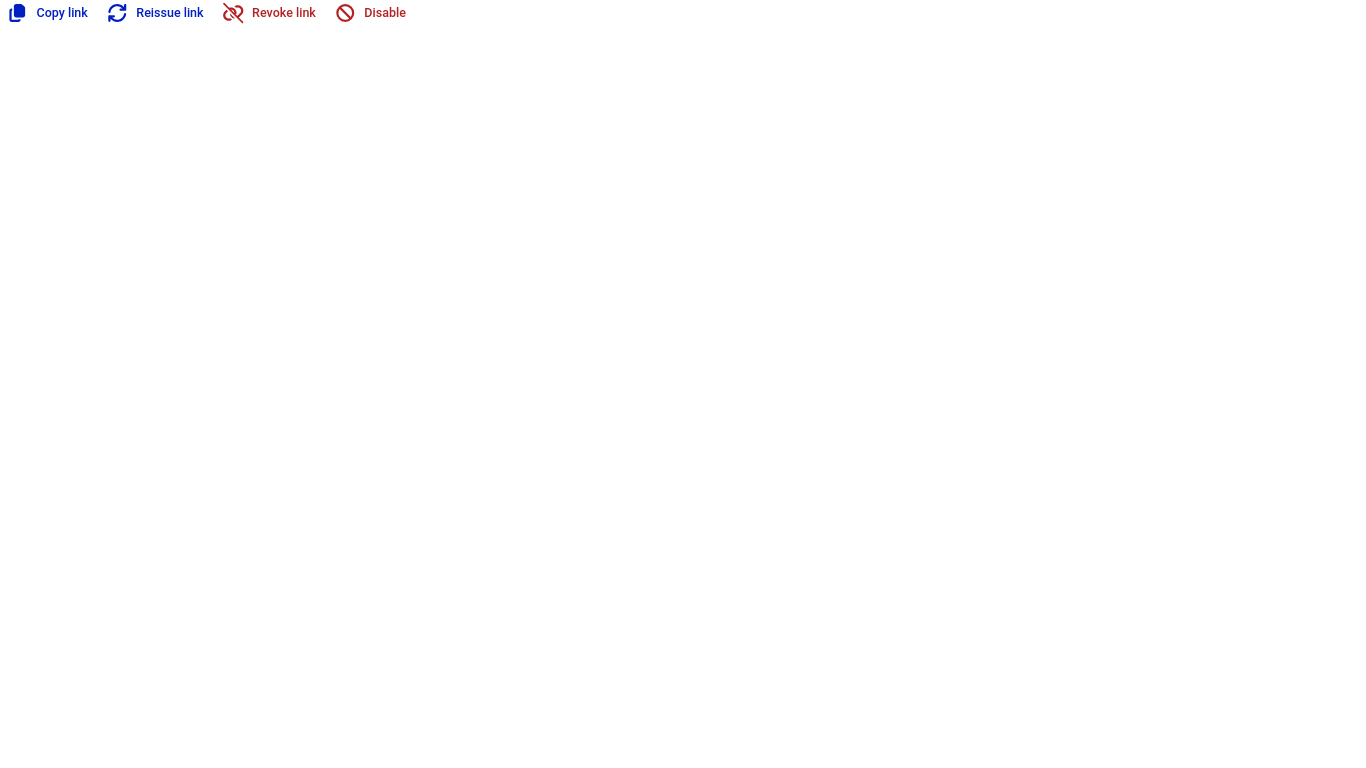
it: RosterRowActions — confirmed actions › confirming Revoke ends sessions; the row now offers Reissue, and focus lands on the row's first action
The image size is (1366, 768).
expect the element named "actions for" is shown: met, box [0,0,414,26]
Click the button with aria-label "Revoke link for Dana Whitfield" at (270, 13), box [216,0,324,26]
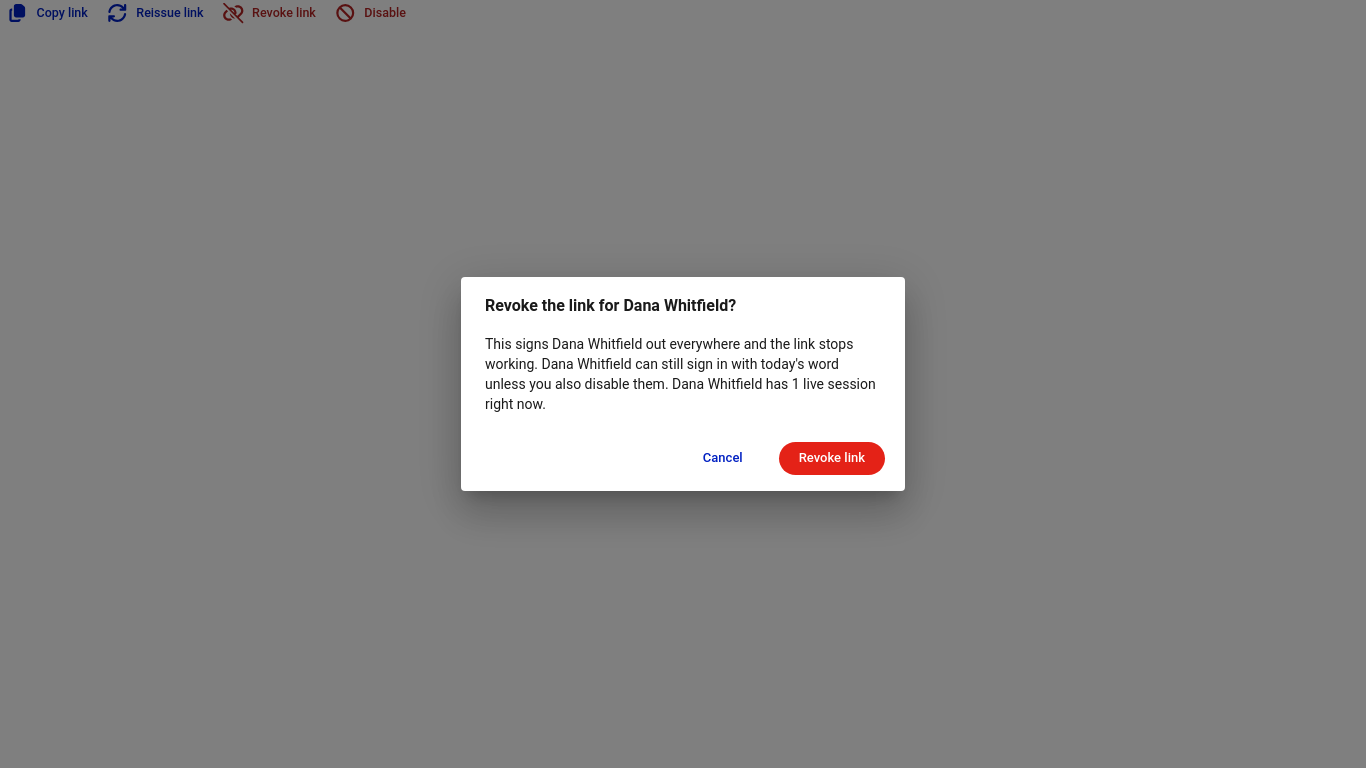
Click the button "Revoke link" at (832, 459), box [779,442,885,475]
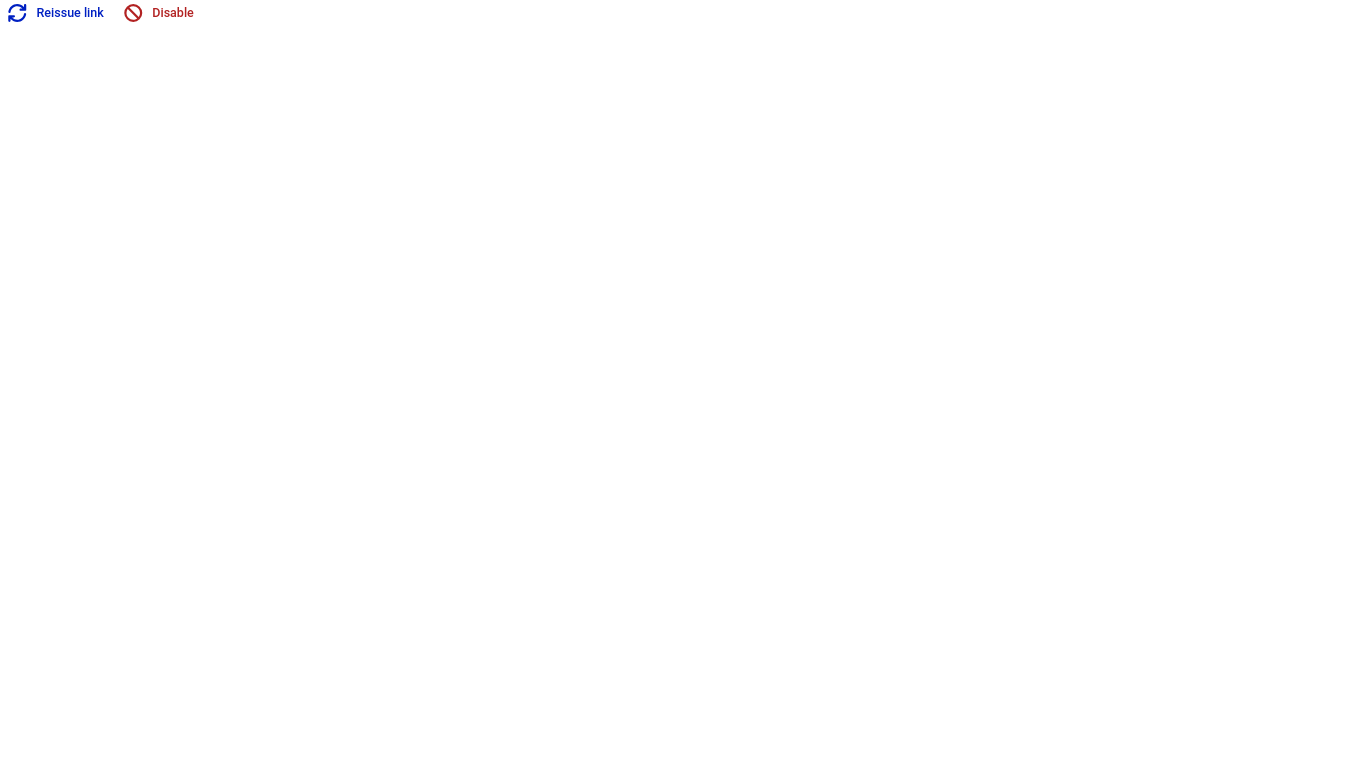
expect the button "Copy link" is gone: met
